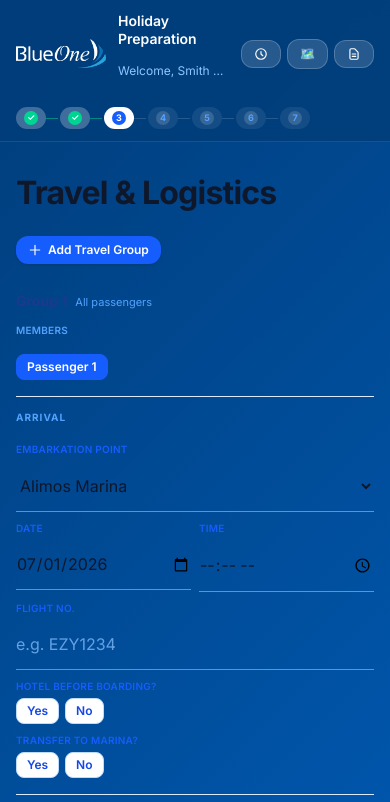
Test: ClientSpaceClient — Step 2: Travel & Logistics › Add Travel Group button creates a second column
The width and height of the screenshot is (390, 802).
Expected: the text "Holiday Preparation" is shown, [118,12,197,46]
Click the button "Add Travel Group" at (88, 250), box [16,236,161,264]
(page scrolled)
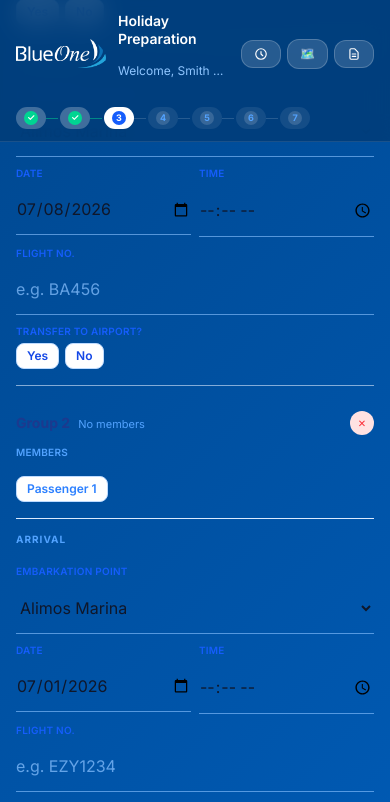
Now the text "Group 2" is shown, box [16,414,70,431]
